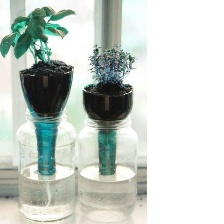bottle: (13, 107, 78, 222), (76, 111, 139, 211)
